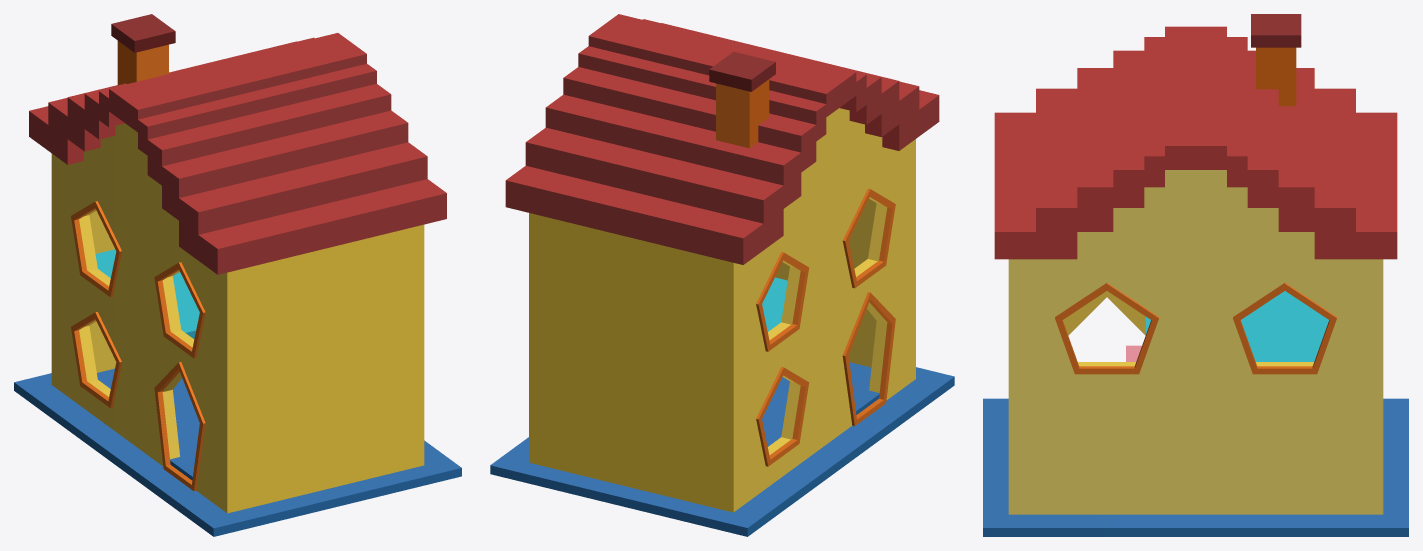
The model's file is house.fbx.
3 renders of one model, left to right at view 1: azimuth 30°, elevation 25°; view 2: azimuth 150°, elevation 25°; view 3: azimuth 270°, elevation 25°, orthographic. The views are drawn at different scales.
Visible parts, largest first — view 1: Roof; view 2: Roof; view 3: Roof.
Part boxes in pixels (bbox=[...]): Roof: bbox=[14, 14, 461, 536]; Roof: bbox=[490, 14, 954, 536]; Roof: bbox=[983, 14, 1408, 536].
Size of the model in its own units: 9.51 by 14.36 by 13.25.
